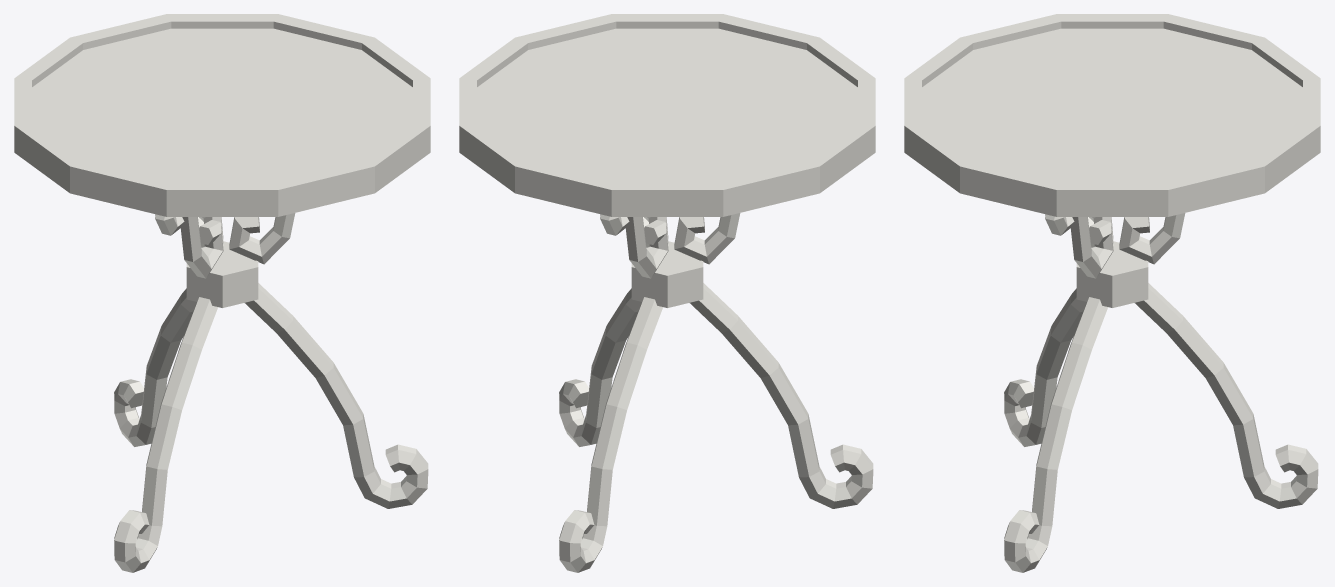
The model's file is FMS_Garden_Bistro_Table_White.fbx.
3 views of the same model, side by side, from view 1: azimuth 30°, elevation 25°; view 2: azimuth 150°, elevation 25°; view 3: azimuth 270°, elevation 25° (orthographic).
Visible parts, largest first — view 1: FMS_Garden_Bistro_Table_White_Body; view 2: FMS_Garden_Bistro_Table_White_Body; view 3: FMS_Garden_Bistro_Table_White_Body.
Boxes of the visible parts, x1=… form: FMS_Garden_Bistro_Table_White_Body: x1=14, y1=14, x2=430, y2=572; FMS_Garden_Bistro_Table_White_Body: x1=459, y1=14, x2=875, y2=572; FMS_Garden_Bistro_Table_White_Body: x1=904, y1=14, x2=1320, y2=572.
Size of the model in its own units: 0.7 by 0.75 by 0.7.
